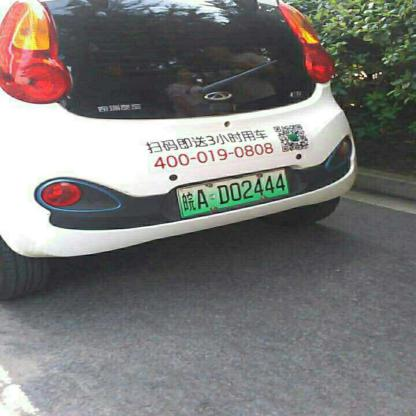lp: (179, 170, 291, 217)
